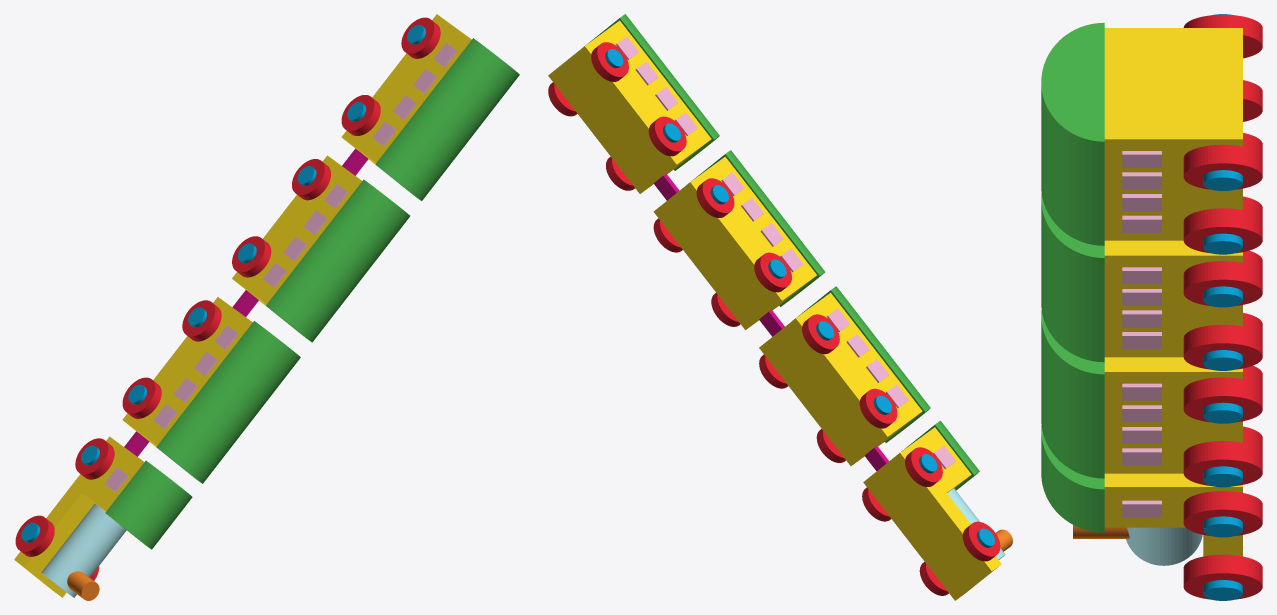
Rendered from tinker.obj.
3 renders of one model, left to right at view 1: azimuth 30°, elevation 25°; view 2: azimuth 150°, elevation 25°; view 3: azimuth 270°, elevation 25°, orthographic. The views are drawn at different scales.
Visible parts, largest first — view 1: group_0_4634441, group_0_16768282, group_0_15277357, group_0_15708628, group_0_11593967, group_0_40919, group_0_14093196, group_0_16089887; view 2: group_0_16768282, group_0_15277357, group_0_4634441, group_0_15708628, group_0_40919, group_0_14093196; view 3: group_0_16768282, group_0_4634441, group_0_15277357, group_0_15708628, group_0_40919, group_0_11593967, group_0_16089887.
Part boxes in pixels (x1=…): group_0_4634441: x1=105, y1=38, x2=519, y2=549; group_0_16768282: x1=14, y1=14, x2=471, y2=597; group_0_15277357: x1=15, y1=17, x2=440, y2=580; group_0_15708628: x1=104, y1=43, x2=457, y2=492; group_0_11593967: x1=41, y1=504, x2=126, y2=597; group_0_40919: x1=21, y1=24, x2=425, y2=542; group_0_14093196: x1=124, y1=148, x2=368, y2=456; group_0_16089887: x1=67, y1=571, x2=99, y2=600; group_0_16768282: x1=548, y1=20, x2=1001, y2=600; group_0_15277357: x1=548, y1=42, x2=1000, y2=595; group_0_4634441: x1=585, y1=14, x2=979, y2=490; group_0_15708628: x1=616, y1=36, x2=955, y2=468; group_0_40919: x1=605, y1=49, x2=994, y2=547; group_0_14093196: x1=653, y1=173, x2=888, y2=471; group_0_16768282: x1=1104, y1=28, x2=1242, y2=556; group_0_4634441: x1=1041, y1=22, x2=1104, y2=532; group_0_15277357: x1=1183, y1=14, x2=1262, y2=599; group_0_15708628: x1=1122, y1=151, x2=1161, y2=517; group_0_40919: x1=1203, y1=14, x2=1242, y2=600; group_0_11593967: x1=1126, y1=527, x2=1202, y2=565; group_0_16089887: x1=1073, y1=525, x2=1129, y2=538.
Size of the model in its own units: 138 by 138 by 30.
